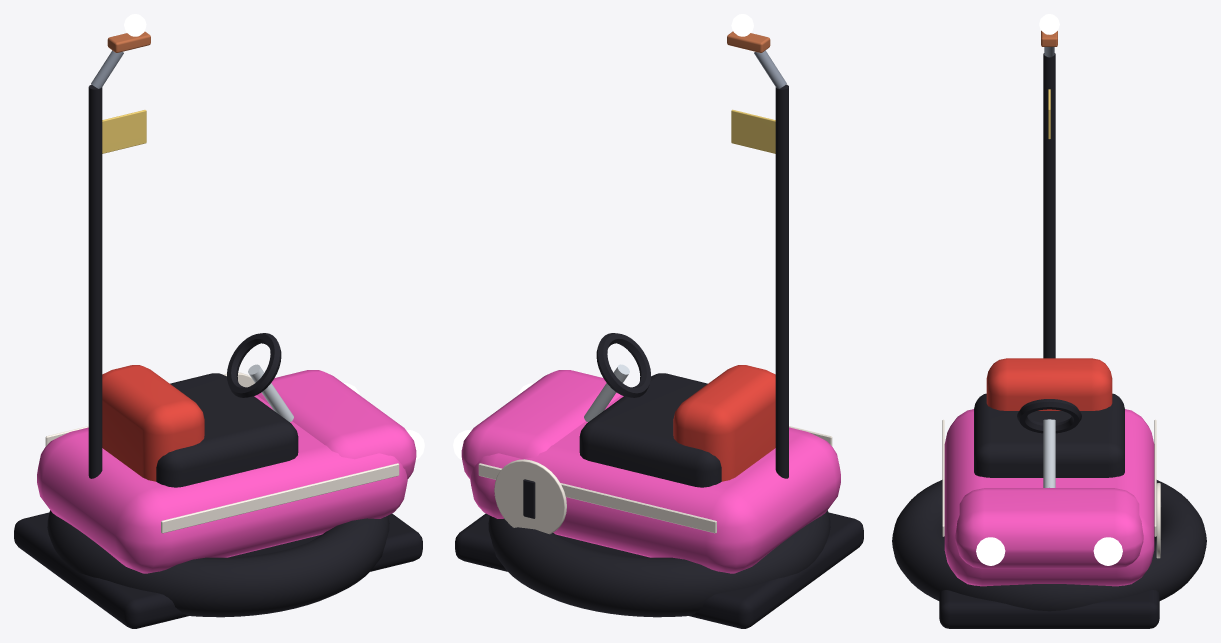
File: bumper_car.glb
3 renders of one model, left to right at view 1: azimuth 30°, elevation 25°; view 2: azimuth 150°, elevation 25°; view 3: azimuth 270°, elevation 25°, orthographic. The views are drawn at different scales.
Visible parts, largest first — view 1: bumper_car; view 2: bumper_car; view 3: bumper_car.
Part boxes in pixels (box(x1,y1,x2,y2)): bumper_car: box(14, 14, 424, 628); bumper_car: box(453, 14, 863, 628); bumper_car: box(892, 14, 1206, 628).
Size of the model in its own units: 1.62 by 2.7 by 1.5.
Materials: 1 (1 with a texture image).
